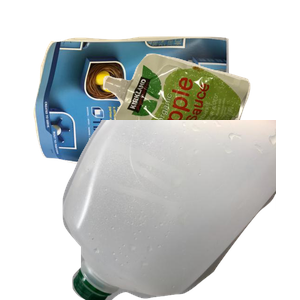glass: (86, 120, 277, 300)
paper: (31, 34, 252, 205)
plastic: (60, 120, 300, 300)
trash: (100, 51, 300, 214)
